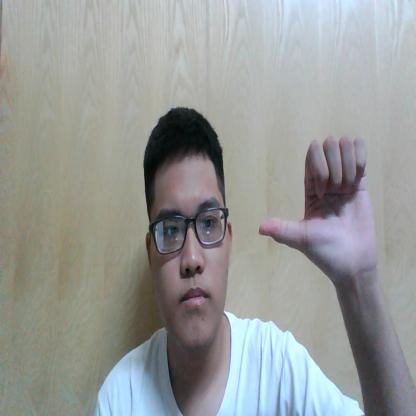right: (258, 135, 377, 276)
